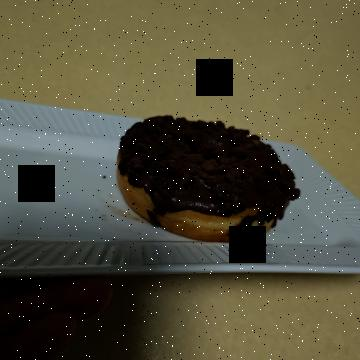doughnut: (97, 49, 250, 254)
